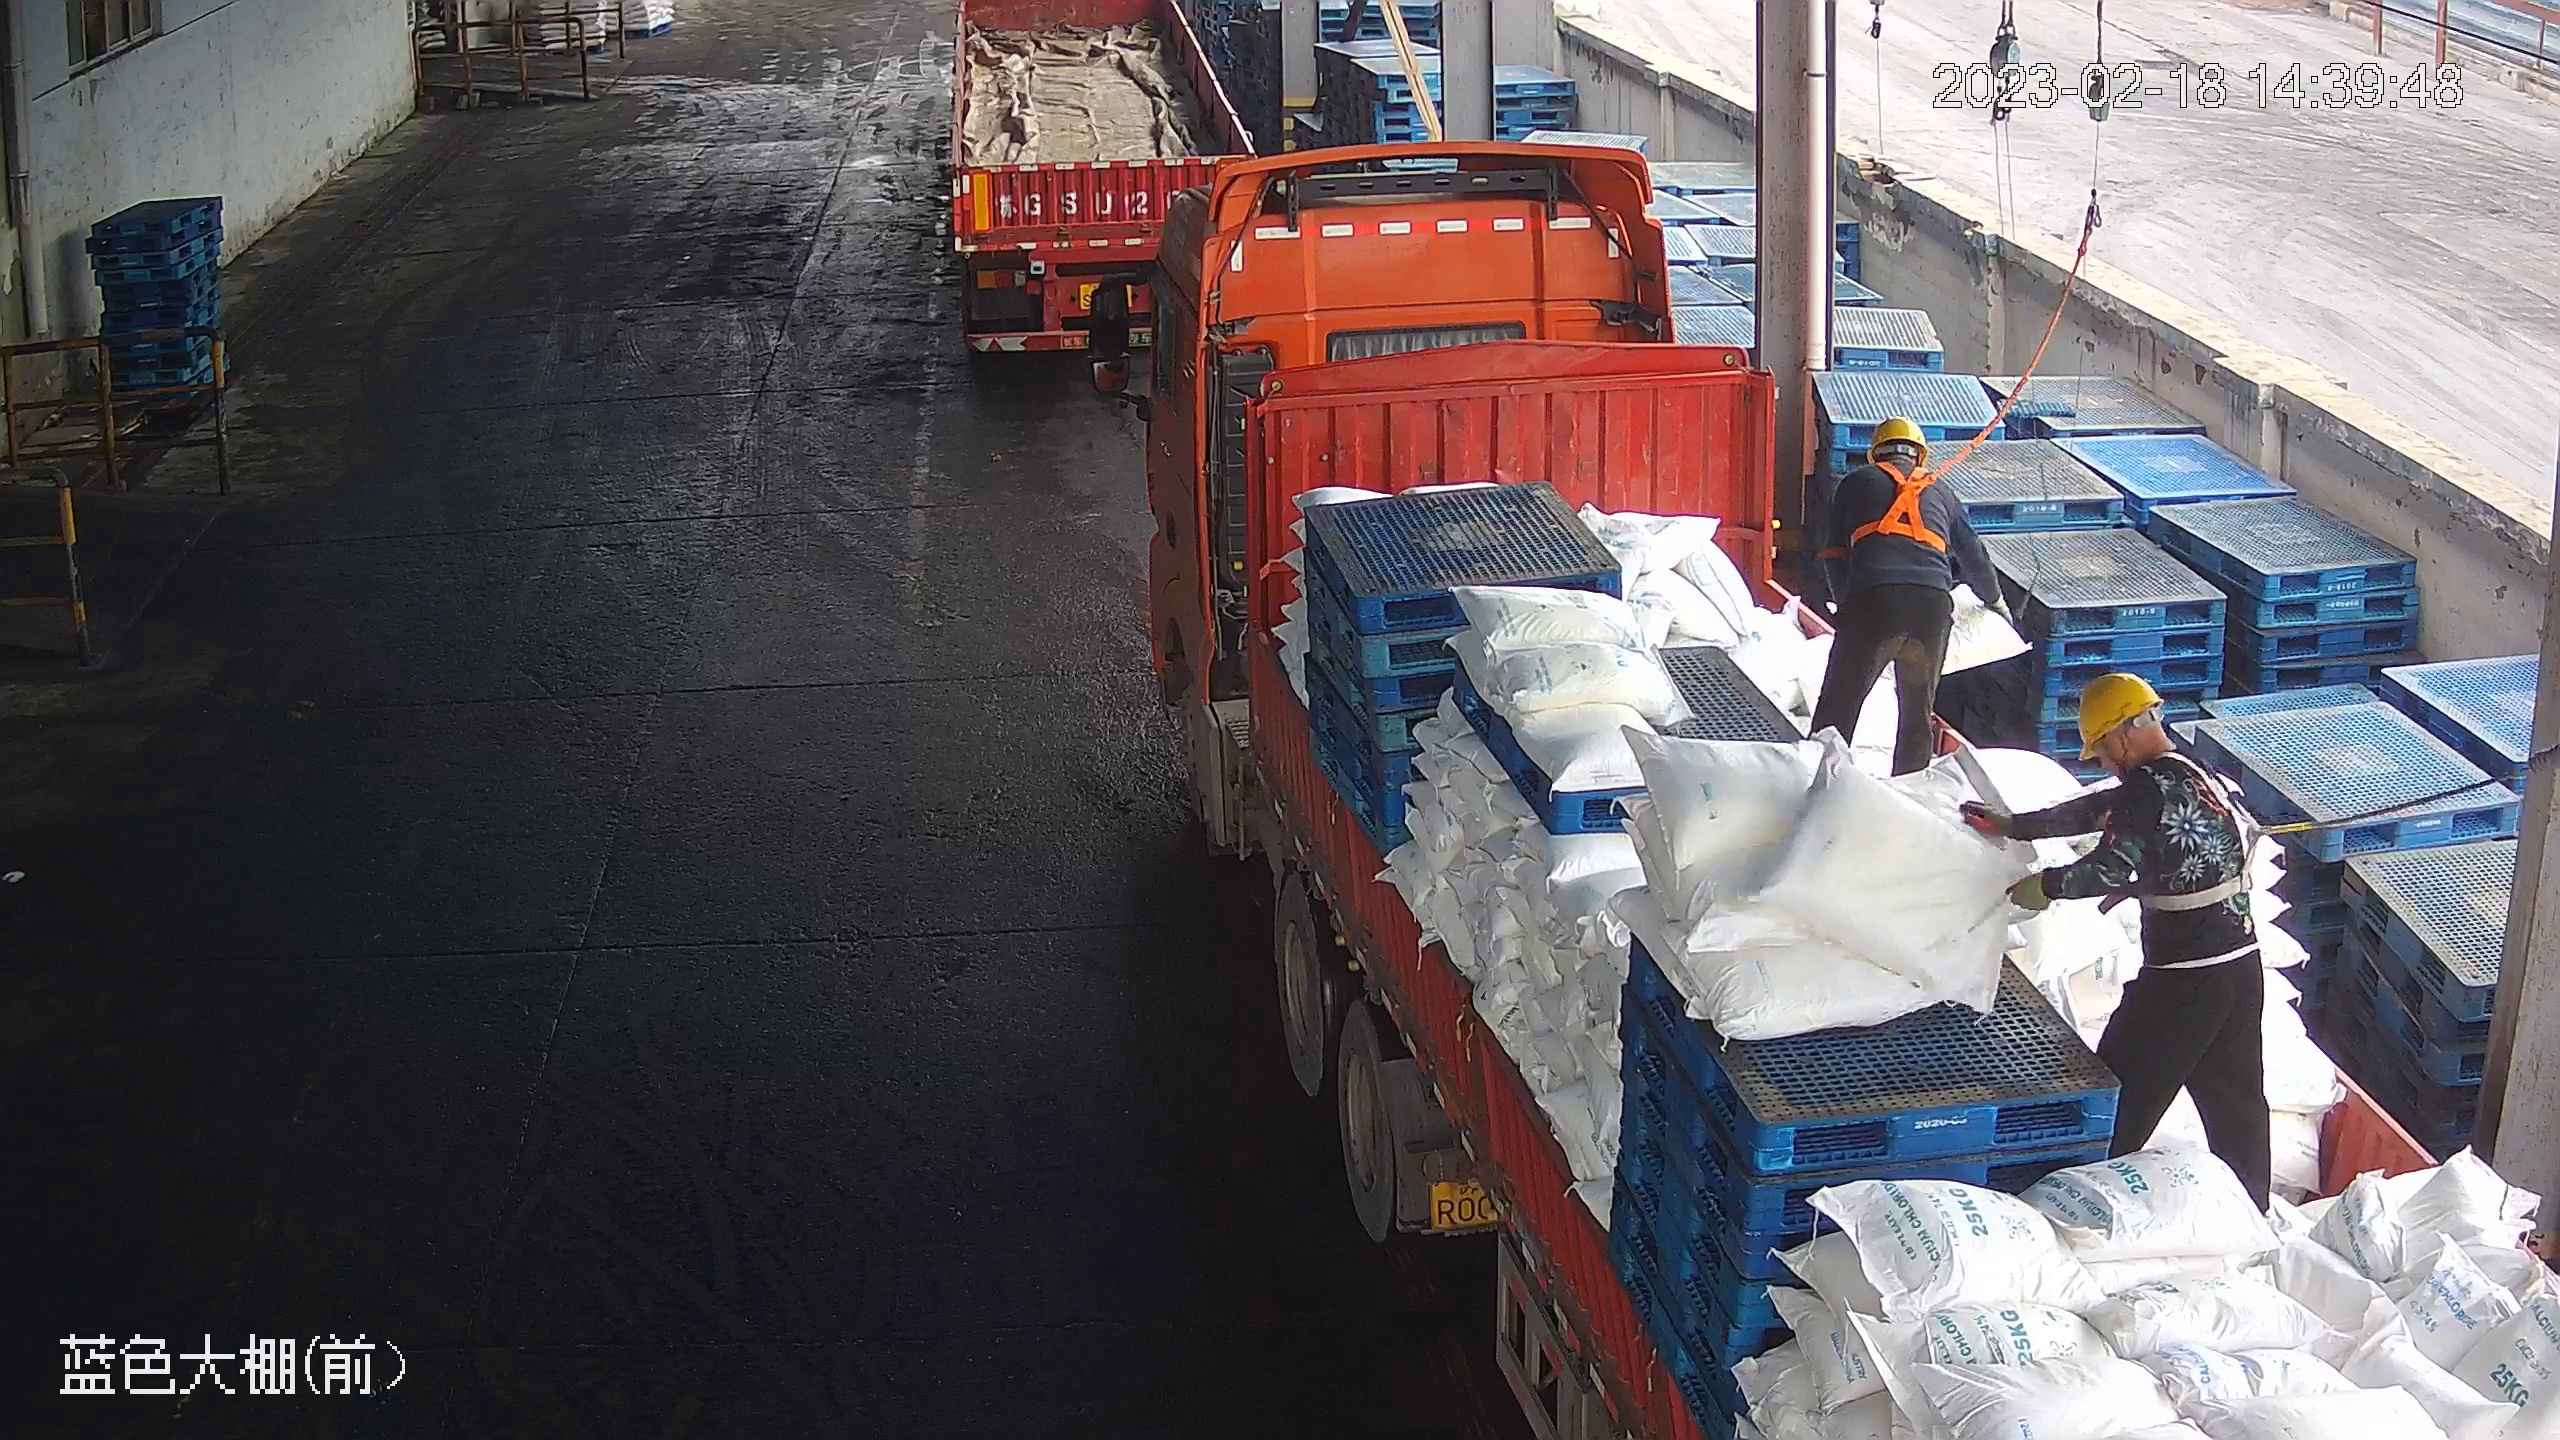belt: (2130, 760, 2281, 918), (1850, 454, 1955, 551)
head: (2062, 668, 2243, 827), (1834, 413, 1962, 522)
helmet: (2073, 670, 2163, 756), (1864, 411, 1928, 457)
people: (1955, 667, 2283, 1216), (1804, 407, 2006, 792)
truck: (1087, 151, 2551, 1436), (939, 8, 1276, 401)
